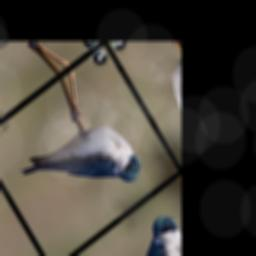Swallow: (17, 100, 147, 239)
